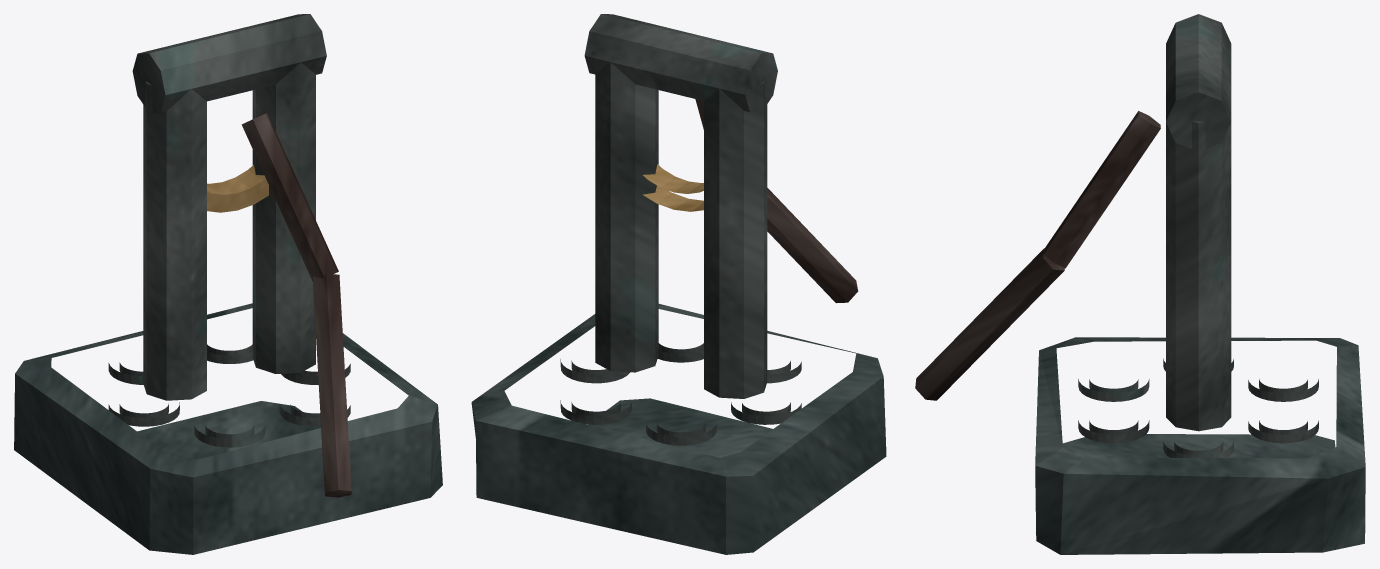
File: 0681_rope_anchor_06.glb
3 views of the same model, side by side, from view 1: azimuth 30°, elevation 25°; view 2: azimuth 150°, elevation 25°; view 3: azimuth 270°, elevation 25° (orthographic).
Parts seen in each view (by area): view 1: iron, stone_dark, wood_dark, brass; view 2: iron, stone_dark, wood_dark, brass; view 3: stone_dark, iron, wood_dark.
Part boxes in pixels (x1,y1,x2,y2): iron: (108,14,350,447); stone_dark: (14,303,442,554); wood_dark: (241,113,351,497); brass: (207,165,268,212); iron: (560,14,801,445); stone_dark: (471,304,886,554); wood_dark: (695,99,858,303); brass: (642,164,703,211); stone_dark: (1035,337,1365,554); iron: (1078,14,1318,457); wood_dark: (915,111,1160,400).
Size of the model in its own units: 1.22 by 1.78 by 1.66.
4 materials, 4 textured.
